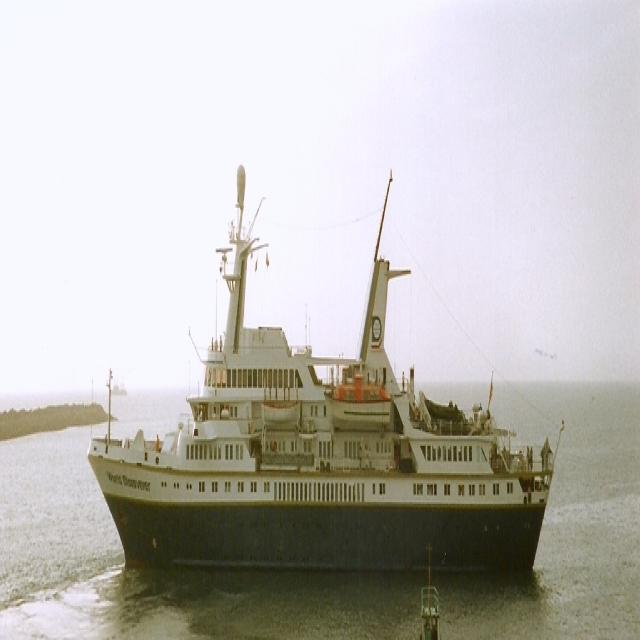Boat: (117, 158, 587, 595)
